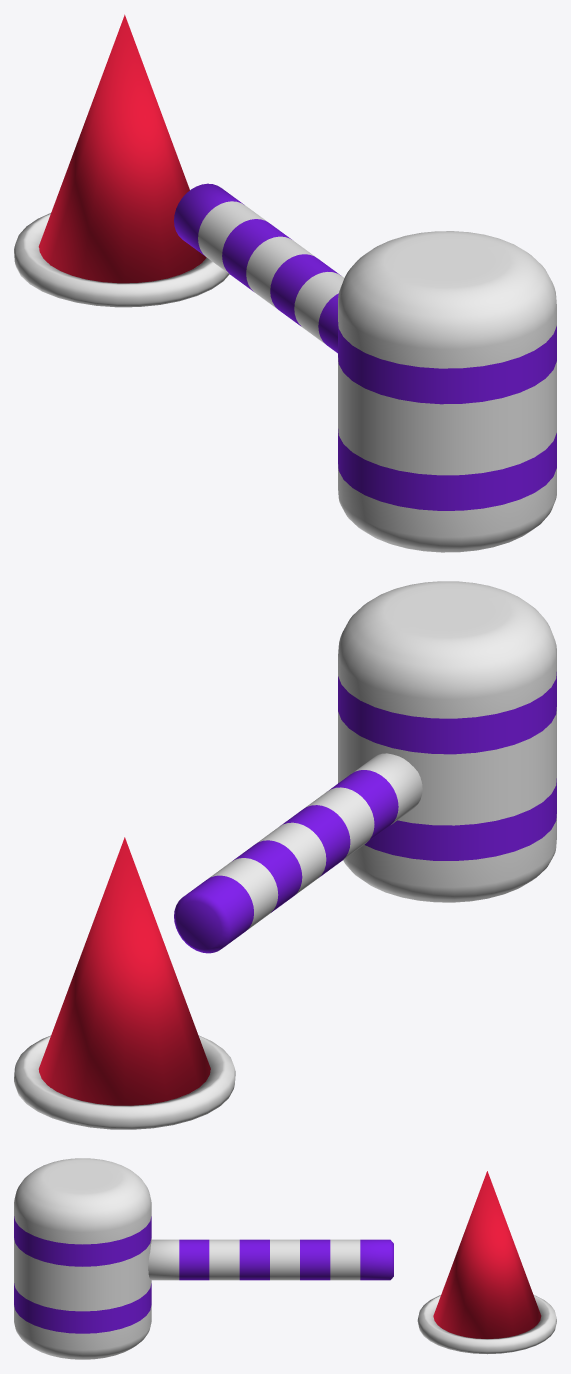
Rendered from obstacle.fbx.
The picture shows the model from 3 angles, top to bottom: view 1: azimuth 30°, elevation 25°; view 2: azimuth 150°, elevation 25°; view 3: azimuth 270°, elevation 25°; orthographic projection. The views are drawn at different scales.
Visible parts, largest first — view 1: Cylinder.001, Cone, Circle; view 2: Cylinder.001, Cone, Circle; view 3: Cylinder.001, Cone, Circle.
Part boxes in pixels (<box>): Cylinder.001: <box>174,183,556,552</box>; Cone: <box>38,14,206,283</box>; Circle: <box>14,213,229,307</box>; Cylinder.001: <box>174,581,556,953</box>; Cone: <box>38,837,210,1105</box>; Circle: <box>14,1035,235,1129</box>; Cylinder.001: <box>14,1158,393,1359</box>; Cone: <box>433,1171,541,1338</box>; Circle: <box>417,1295,556,1354</box>.
Size of the model in its own units: 202 by 269 by 789.
